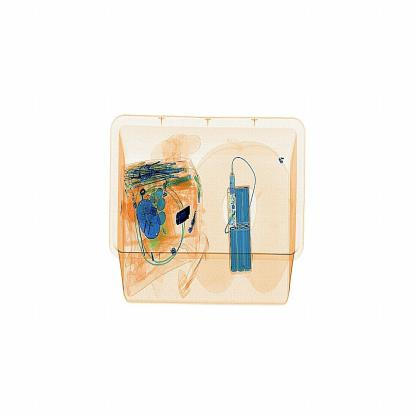knife: (173, 208, 195, 230)
